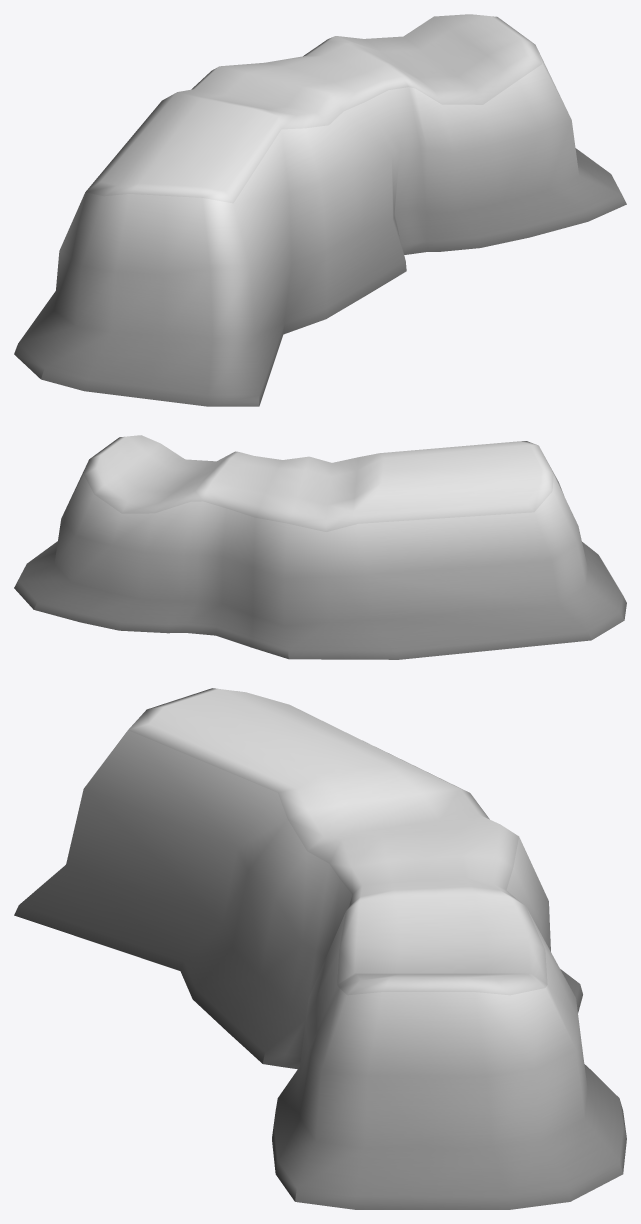
The model's file is LongGum.fbx.
3 views of the same model, one above another, from view 1: azimuth 30°, elevation 25°; view 2: azimuth 150°, elevation 25°; view 3: azimuth 270°, elevation 25° (orthographic). The views are drawn at different scales.
Visible parts, largest first — view 1: LongGum; view 2: LongGum; view 3: LongGum.
Part boxes in pixels (bbox=[...]): LongGum: bbox=[14, 14, 626, 406]; LongGum: bbox=[14, 435, 626, 659]; LongGum: bbox=[14, 688, 626, 1209].
Size of the model in its own units: 4.45 by 1.18 by 3.08.
